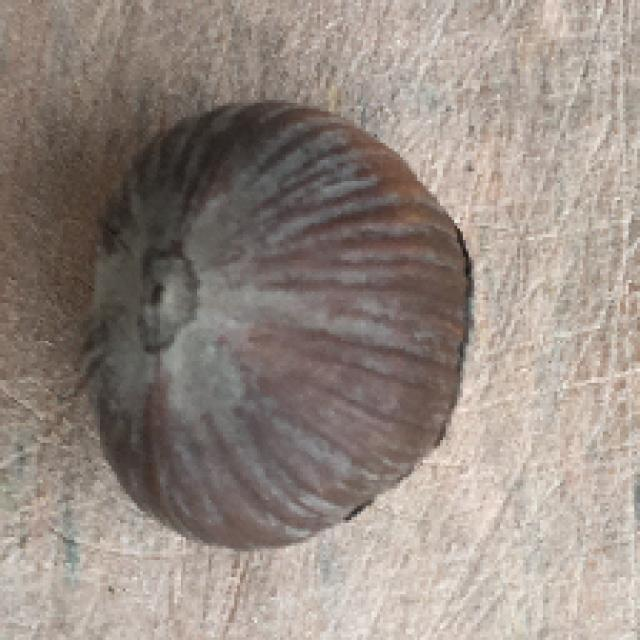damagedHazelnut: (61, 81, 508, 575)
